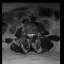CCS_normal: (30, 31, 31, 39)
LFS_normal: (34, 31, 36, 37)
LLS_normal: (32, 32, 34, 38)
RFS_normal: (25, 30, 28, 38)
RLS_normal: (28, 31, 30, 38)
